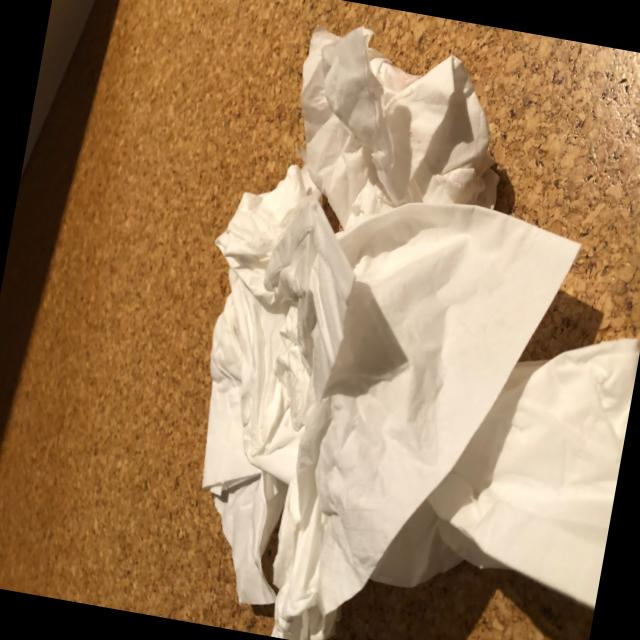organic waste: (206, 167, 592, 640), (354, 287, 640, 626), (150, 143, 356, 610), (273, 22, 529, 250)
